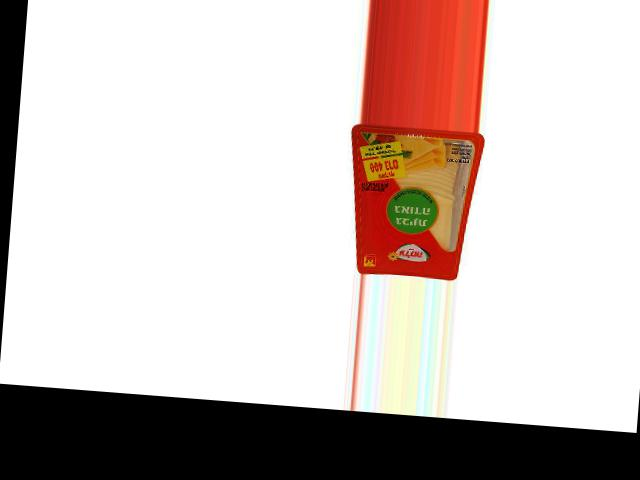cheese: (340, 122, 484, 281)
